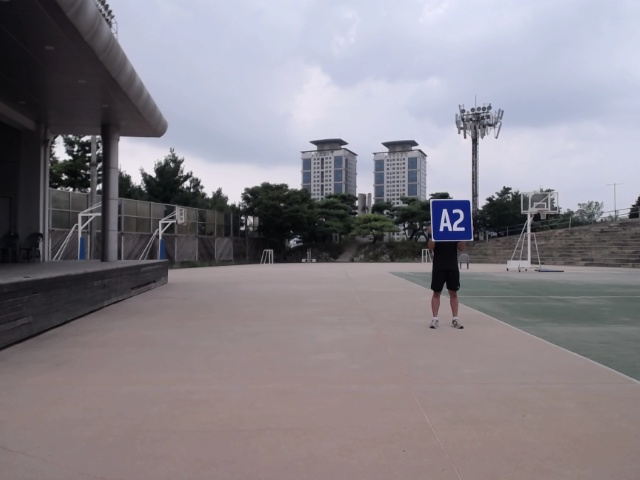delivery_a2: (431, 199, 473, 241)
